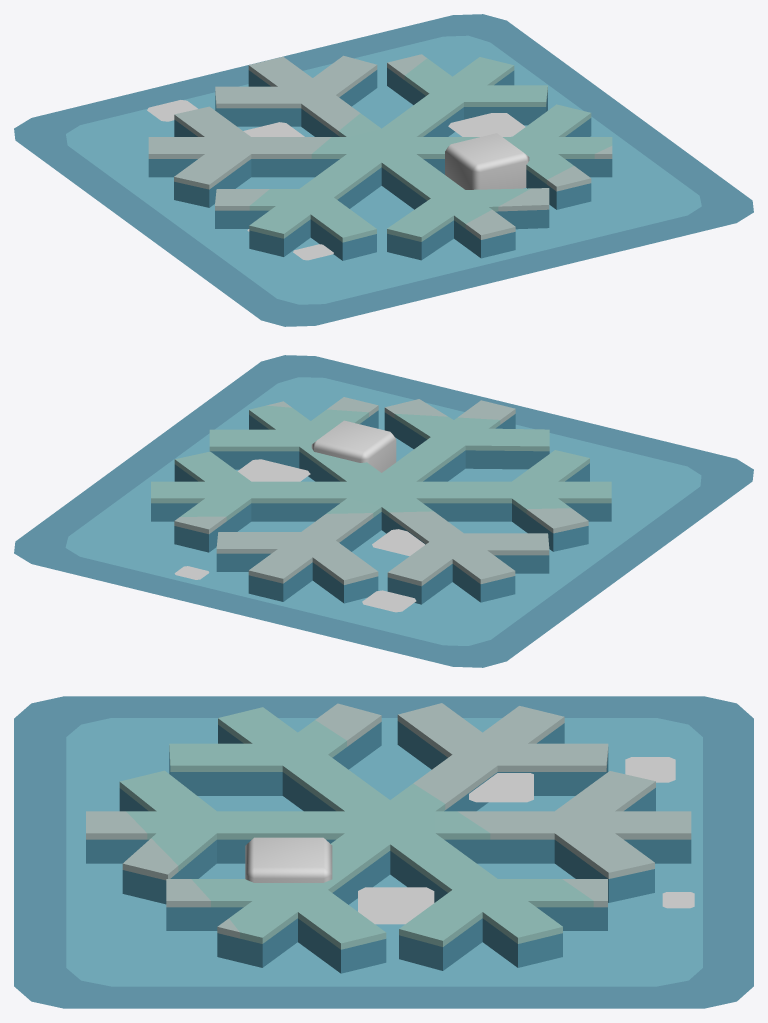
Rendered from BC_cookrecipe_S_33.fbx.
The picture shows the model from 3 angles, top to bottom: view 1: azimuth 30°, elevation 25°; view 2: azimuth 150°, elevation 25°; view 3: azimuth 270°, elevation 25°; orthographic projection. The views are drawn at different scales.
Visible parts, largest first — view 1: polySurface1, Cube1, boko2, boko6, boko4; view 2: polySurface1, Cube1, boko2, boko4, boko6; view 3: polySurface1, Cube1, boko2, boko4, boko6, boko1.
Part boxes in pixels (x1,y1,x2,y2): polySurface1: (14,14,753,326); Cube1: (445,133,529,189); boko2: (448,113,525,136); boko6: (147,100,197,121); boko4: (243,122,304,136); polySurface1: (14,355,753,667); Cube1: (311,420,396,472); boko2: (237,459,310,481); boko4: (372,529,425,556); boko6: (362,590,416,612); polySurface1: (14,696,753,1008); Cube1: (245,837,332,882); boko2: (358,887,434,924); boko4: (469,773,533,802); boko6: (625,757,675,782); boko1: (662,892,694,908).
Bounding box in the file's own units: 3.5 × 0.4117 × 3.5.
